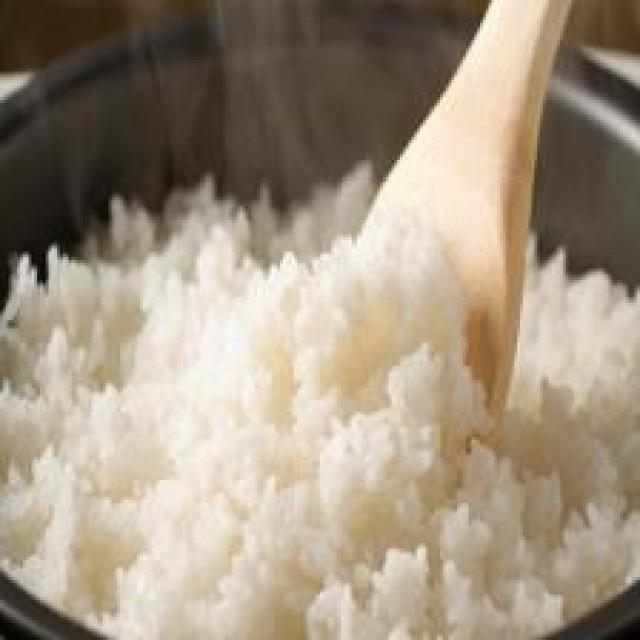Wet Waste: (7, 190, 640, 636)
